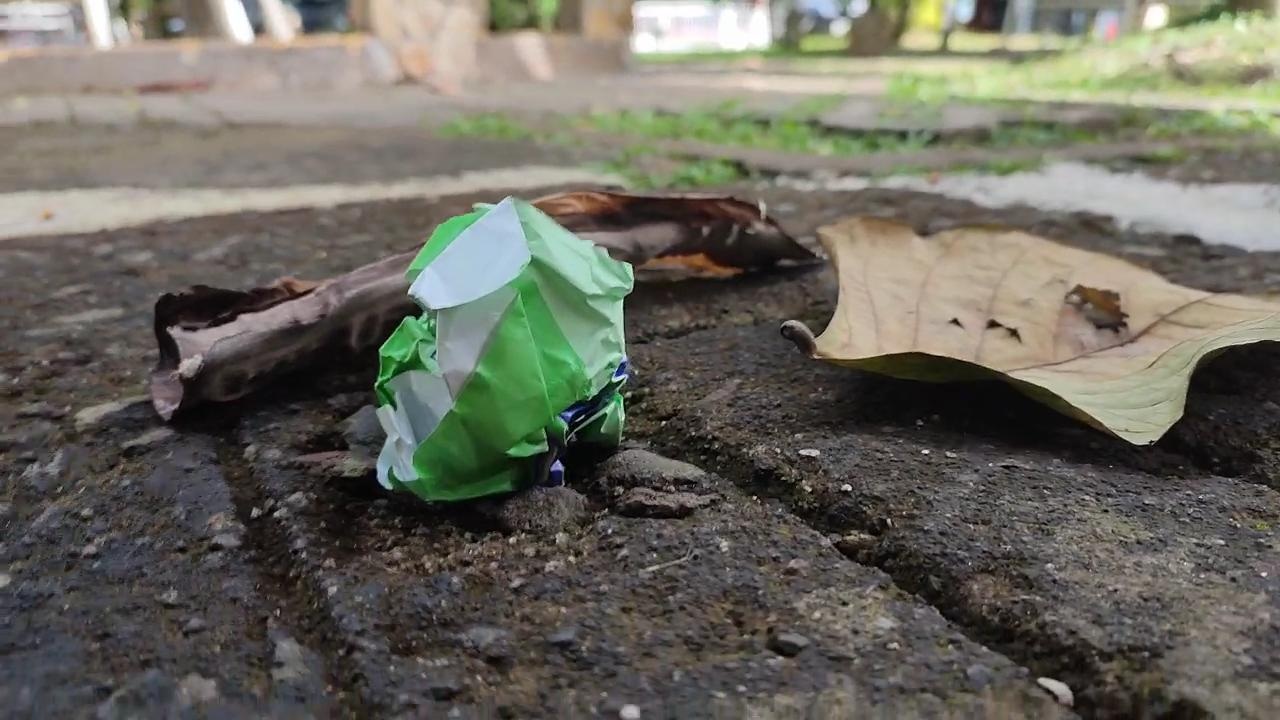Paper: (346, 184, 646, 545)
